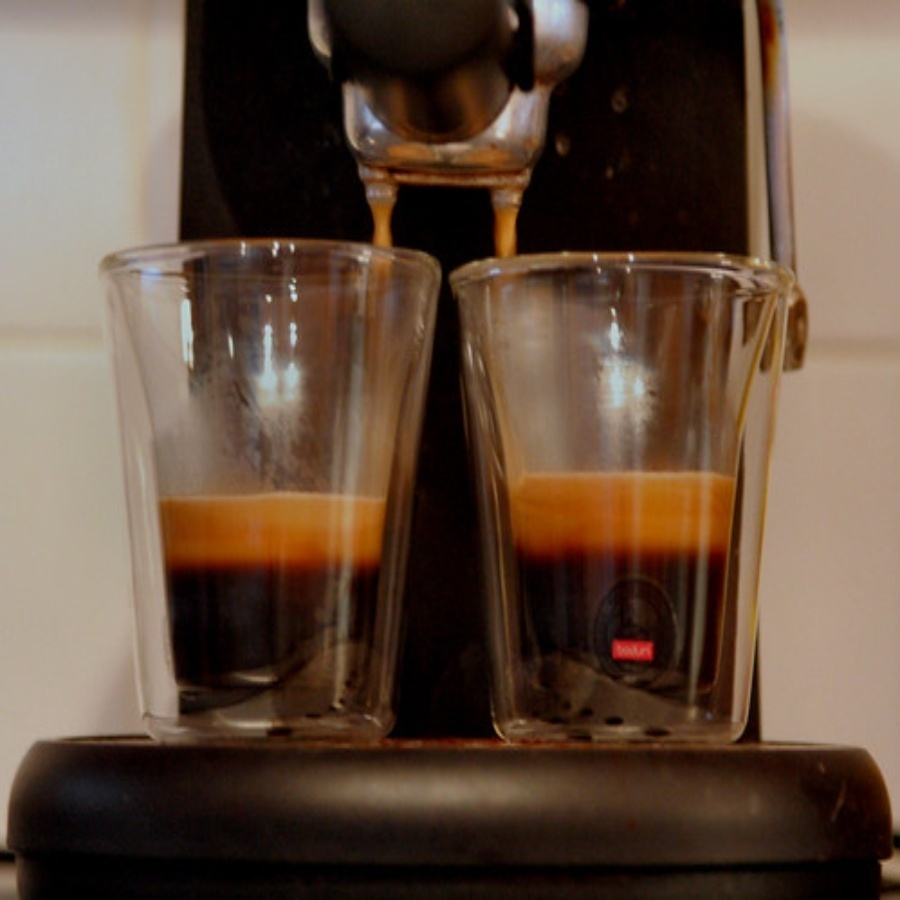whiskey: (457, 252, 794, 737), (100, 247, 437, 732)
